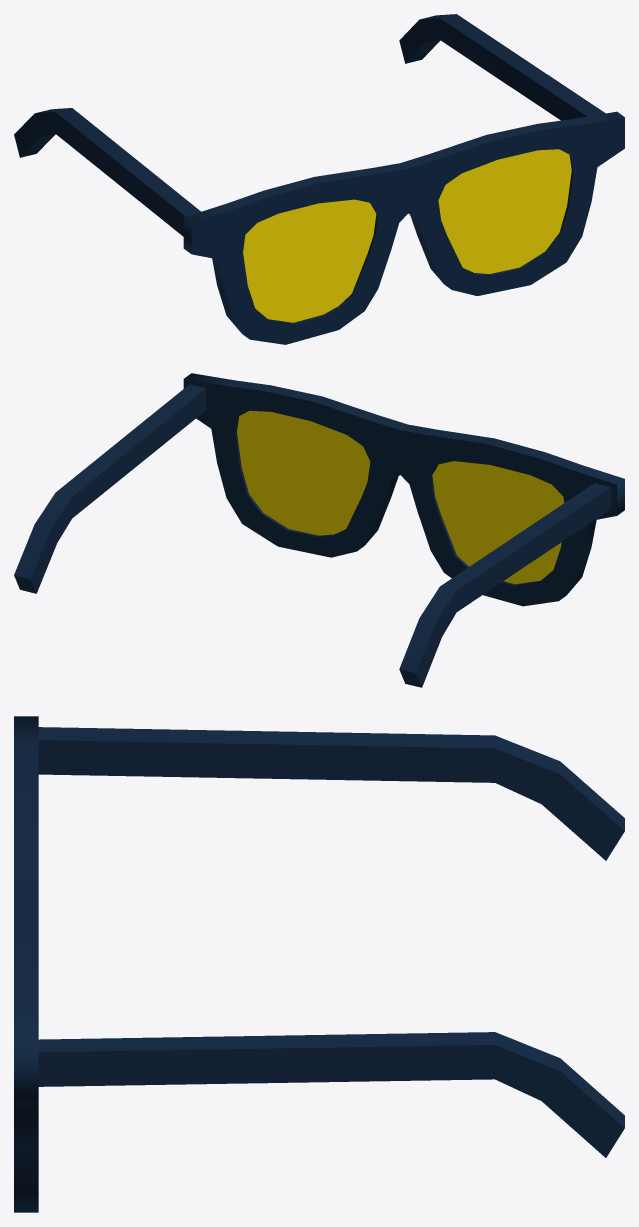
The model's file is Glasses_06.fbx.
3 views of the same model, one above another, from view 1: azimuth 30°, elevation 25°; view 2: azimuth 150°, elevation 25°; view 3: azimuth 270°, elevation 25° (orthographic). The views are drawn at different scales.
Visible parts, largest first — view 1: Glasses_06.c, Glasses_stick_36, Glasses_stick_35; view 2: Glasses_06.c, Glasses_stick_35, Glasses_stick_36; view 3: Glasses_stick_35, Glasses_stick_36, Glasses_06.c.
Boxes of the visible parts, x1,y1,x2,y2 form: Glasses_06.c: (183,111,624,344); Glasses_stick_36: (399,14,605,120); Glasses_stick_35: (14,108,200,236); Glasses_06.c: (183,373,624,606); Glasses_stick_35: (399,483,611,687); Glasses_stick_36: (14,384,206,593); Glasses_stick_35: (38,727,624,860); Glasses_stick_36: (38,1032,624,1157); Glasses_06.c: (14,716,38,1212).
Bounding box in the file's own units: 0.6868 × 0.2324 × 0.5304.
